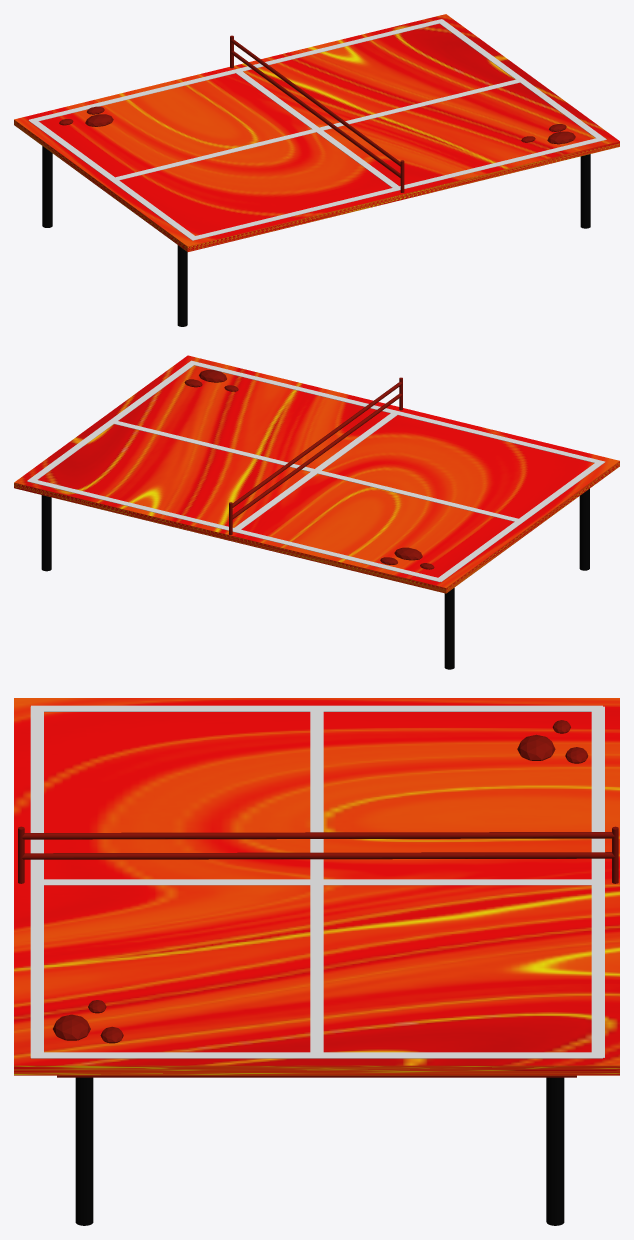
File: Tabla Lava.fbx
3 views of the same model, one above another, from view 1: azimuth 30°, elevation 25°; view 2: azimuth 150°, elevation 25°; view 3: azimuth 270°, elevation 25° (orthographic). The views are drawn at different scales.
Visible parts, largest first — view 1: Cube.001, Cube.004, Cube.002, Cube.005, Cube.007, Cube.003, Cube.006, Cylinder.006, Cylinder.007, Cylinder.002, Cylinder.003, Cylinder.001; view 2: Cube.001, Cube.004, Cube.005, Cube.002, Cube.007, Cube.006, Cube.003, Cylinder.007, Cylinder.006, Cylinder.003, Cylinder.002, Cylinder; view 3: Cube.001, Cube.004, Cube.005, Cube.002, Cylinder.006, Cylinder.007, Cube.007, Cube.003, Cube.006, Cylinder, Cylinder.001, Cube (+2 smaller).
Boxes of the visible parts, box(x1,y1,x2,y2) form: Cube.001: box(14, 14, 619, 251); Cube.004: box(29, 19, 444, 122); Cube.002: box(191, 138, 605, 240); Cube.005: box(110, 79, 519, 181); Cube.007: box(439, 19, 606, 140); Cube.003: box(236, 71, 400, 190); Cube.006: box(28, 120, 198, 240); Cylinder.006: box(230, 39, 400, 166); Cylinder.007: box(230, 51, 400, 177); Cylinder.002: box(177, 245, 187, 326); Cylinder.003: box(42, 146, 52, 227); Cylinder.001: box(580, 154, 590, 228); Cube.001: box(14, 355, 619, 593); Cube.004: box(27, 478, 443, 582); Cube.005: box(114, 421, 523, 522); Cube.002: box(194, 362, 598, 462); Cube.007: box(27, 360, 197, 480); Cube.006: box(438, 460, 605, 581); Cube.003: box(234, 410, 400, 529); Cylinder.007: box(232, 393, 402, 519); Cylinder.006: box(232, 382, 402, 507); Cylinder.003: box(444, 588, 454, 669); Cylinder.002: box(579, 488, 589, 570); Cylinder: box(41, 495, 51, 571); Cube.001: box(14, 698, 619, 1075); Cube.004: box(591, 706, 604, 1057); Cube.005: box(310, 706, 323, 1052); Cube.002: box(30, 707, 43, 1057); Cylinder.006: box(21, 832, 614, 839); Cylinder.007: box(21, 852, 614, 859); Cube.007: box(31, 1052, 602, 1058); Cube.003: box(31, 879, 591, 885); Cube.006: box(31, 705, 602, 711); Cylinder: box(546, 1077, 564, 1225); Cylinder.001: box(75, 1077, 93, 1225); Cube: box(57, 1075, 576, 1077).
Bounding box in the file's own units: 7286 × 2058 × 5076.
